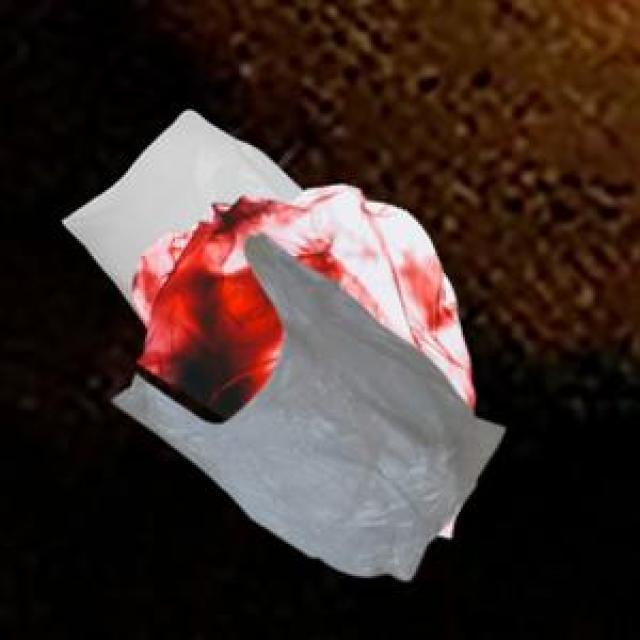waste: (64, 110, 502, 579), (132, 185, 474, 419)
